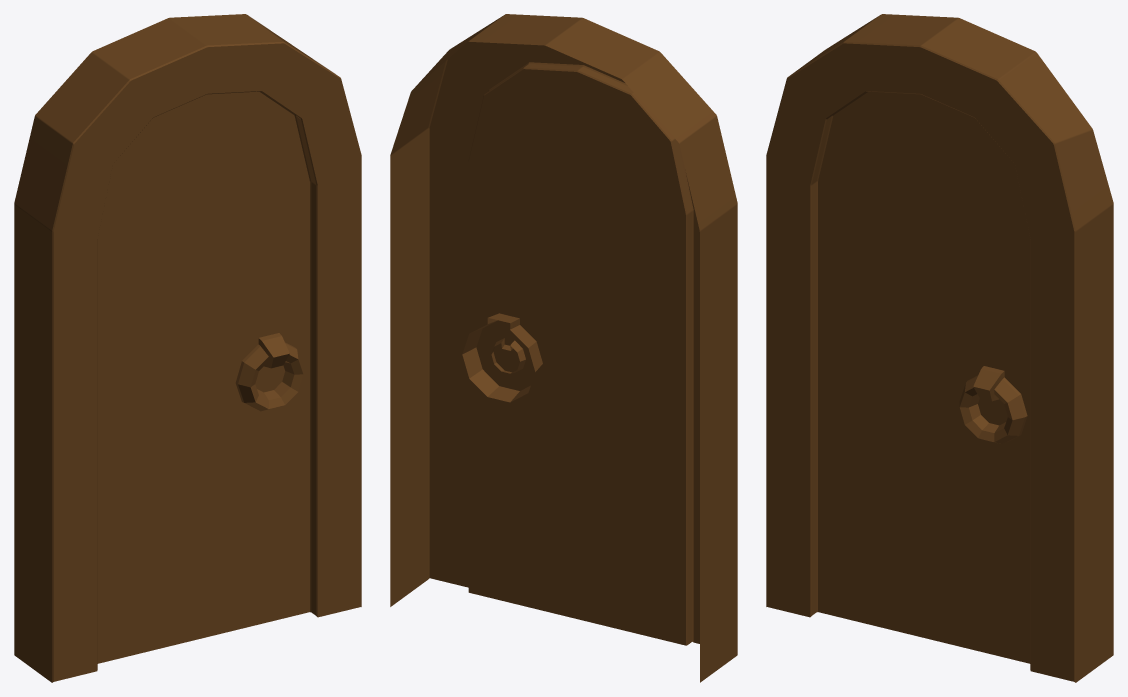
The model's file is PuertaExterior.fbx.
The picture shows the model from 3 angles, left to right: view 1: azimuth 30°, elevation 25°; view 2: azimuth 150°, elevation 25°; view 3: azimuth 330°, elevation 25°; orthographic projection.
Parts seen in each view (by area): view 1: Puerta; view 2: Puerta; view 3: Puerta.
Part boxes in pixels (left/top/right/bottom): Puerta: left=14, top=14, right=361, bottom=682; Puerta: left=390, top=14, right=737, bottom=682; Puerta: left=766, top=14, right=1113, bottom=682.
Bounding box in the file's own units: 0.5112 × 0.9459 × 0.1292.
